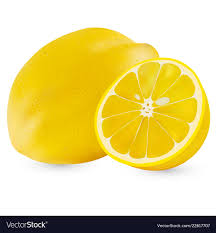lemon: (2, 22, 170, 164)
